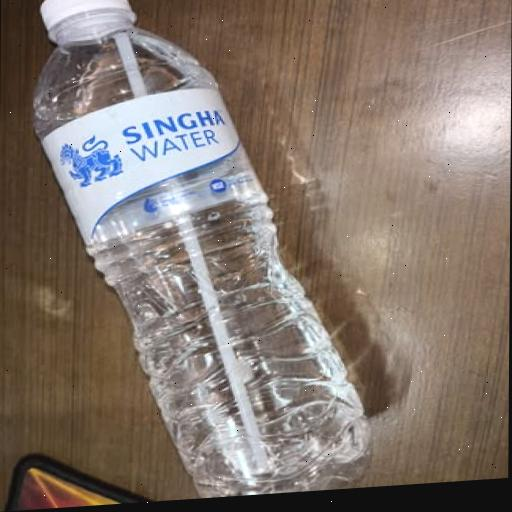bottle: (7, 0, 387, 511)
